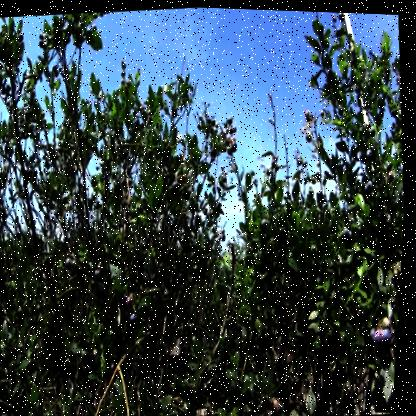mature: (376, 327, 400, 348), (345, 223, 357, 241), (133, 311, 144, 327), (128, 293, 139, 309)
young: (386, 313, 398, 324)
